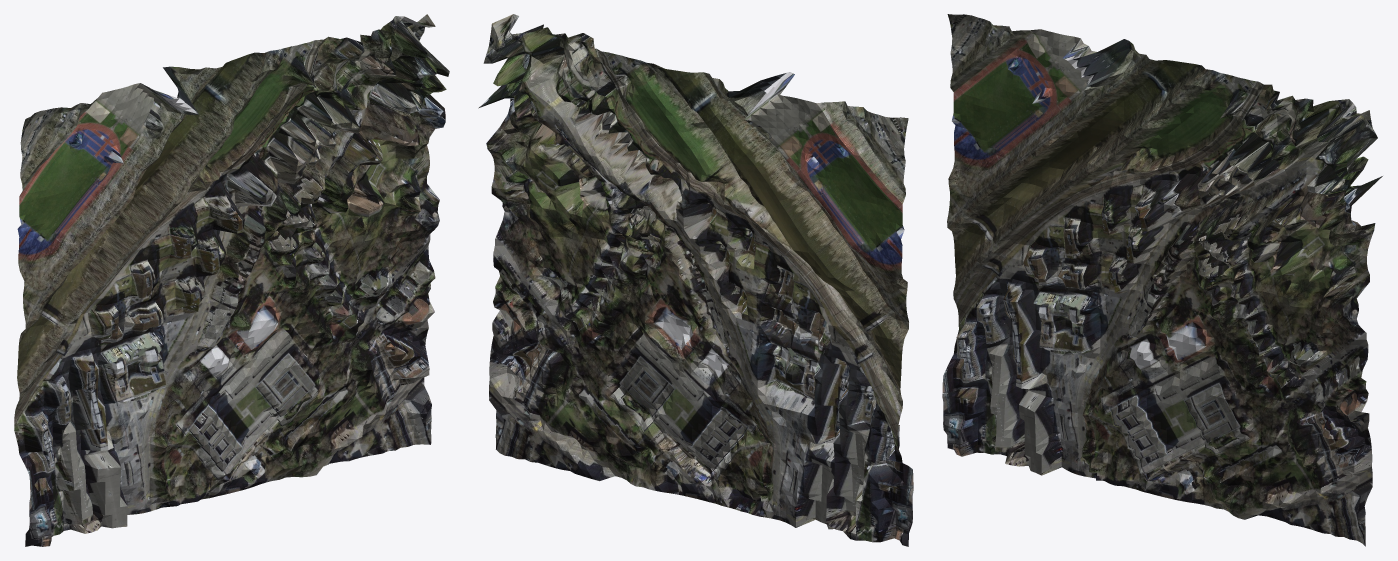
The picture shows the model from 3 angles, left to right: view 1: azimuth 30°, elevation 25°; view 2: azimuth 150°, elevation 25°; view 3: azimuth 330°, elevation 25°; orthographic projection.
Parts seen in each view (by area): view 1: ayama_surface; view 2: ayama_surface; view 3: ayama_surface.
Boxes of the visible parts, bbox=[...] form: ayama_surface: bbox=[14, 14, 449, 546]; ayama_surface: bbox=[478, 14, 913, 546]; ayama_surface: bbox=[942, 14, 1382, 546].
Size of the model in its own units: 504 by 504 by 85.22.
Materials: 1 (1 with a texture image).
